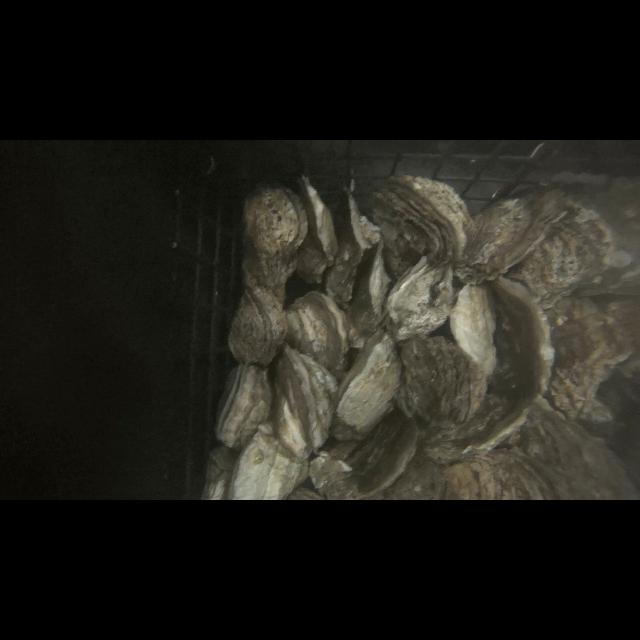Oyster-Closed: (504, 394, 640, 501), (507, 198, 640, 305), (546, 294, 634, 418), (456, 188, 572, 282), (369, 172, 469, 272), (400, 333, 488, 441), (327, 411, 419, 497), (242, 180, 310, 292), (436, 448, 562, 499), (229, 420, 309, 500), (386, 256, 456, 340), (214, 360, 276, 448), (225, 282, 288, 366), (298, 174, 338, 286), (309, 450, 361, 500), (202, 444, 236, 500)
Oyster-Open: (450, 274, 554, 450), (328, 186, 390, 344), (335, 331, 403, 441), (273, 341, 337, 457), (284, 290, 348, 372)
